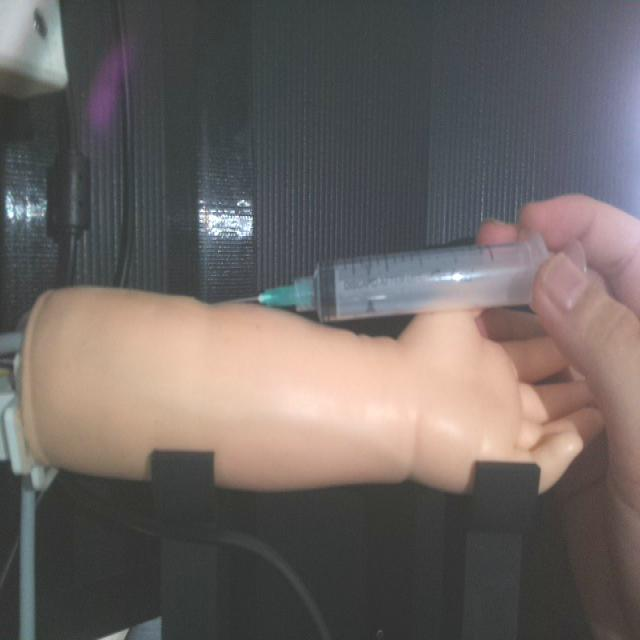Below 15 degrees: (227, 225, 586, 324)
